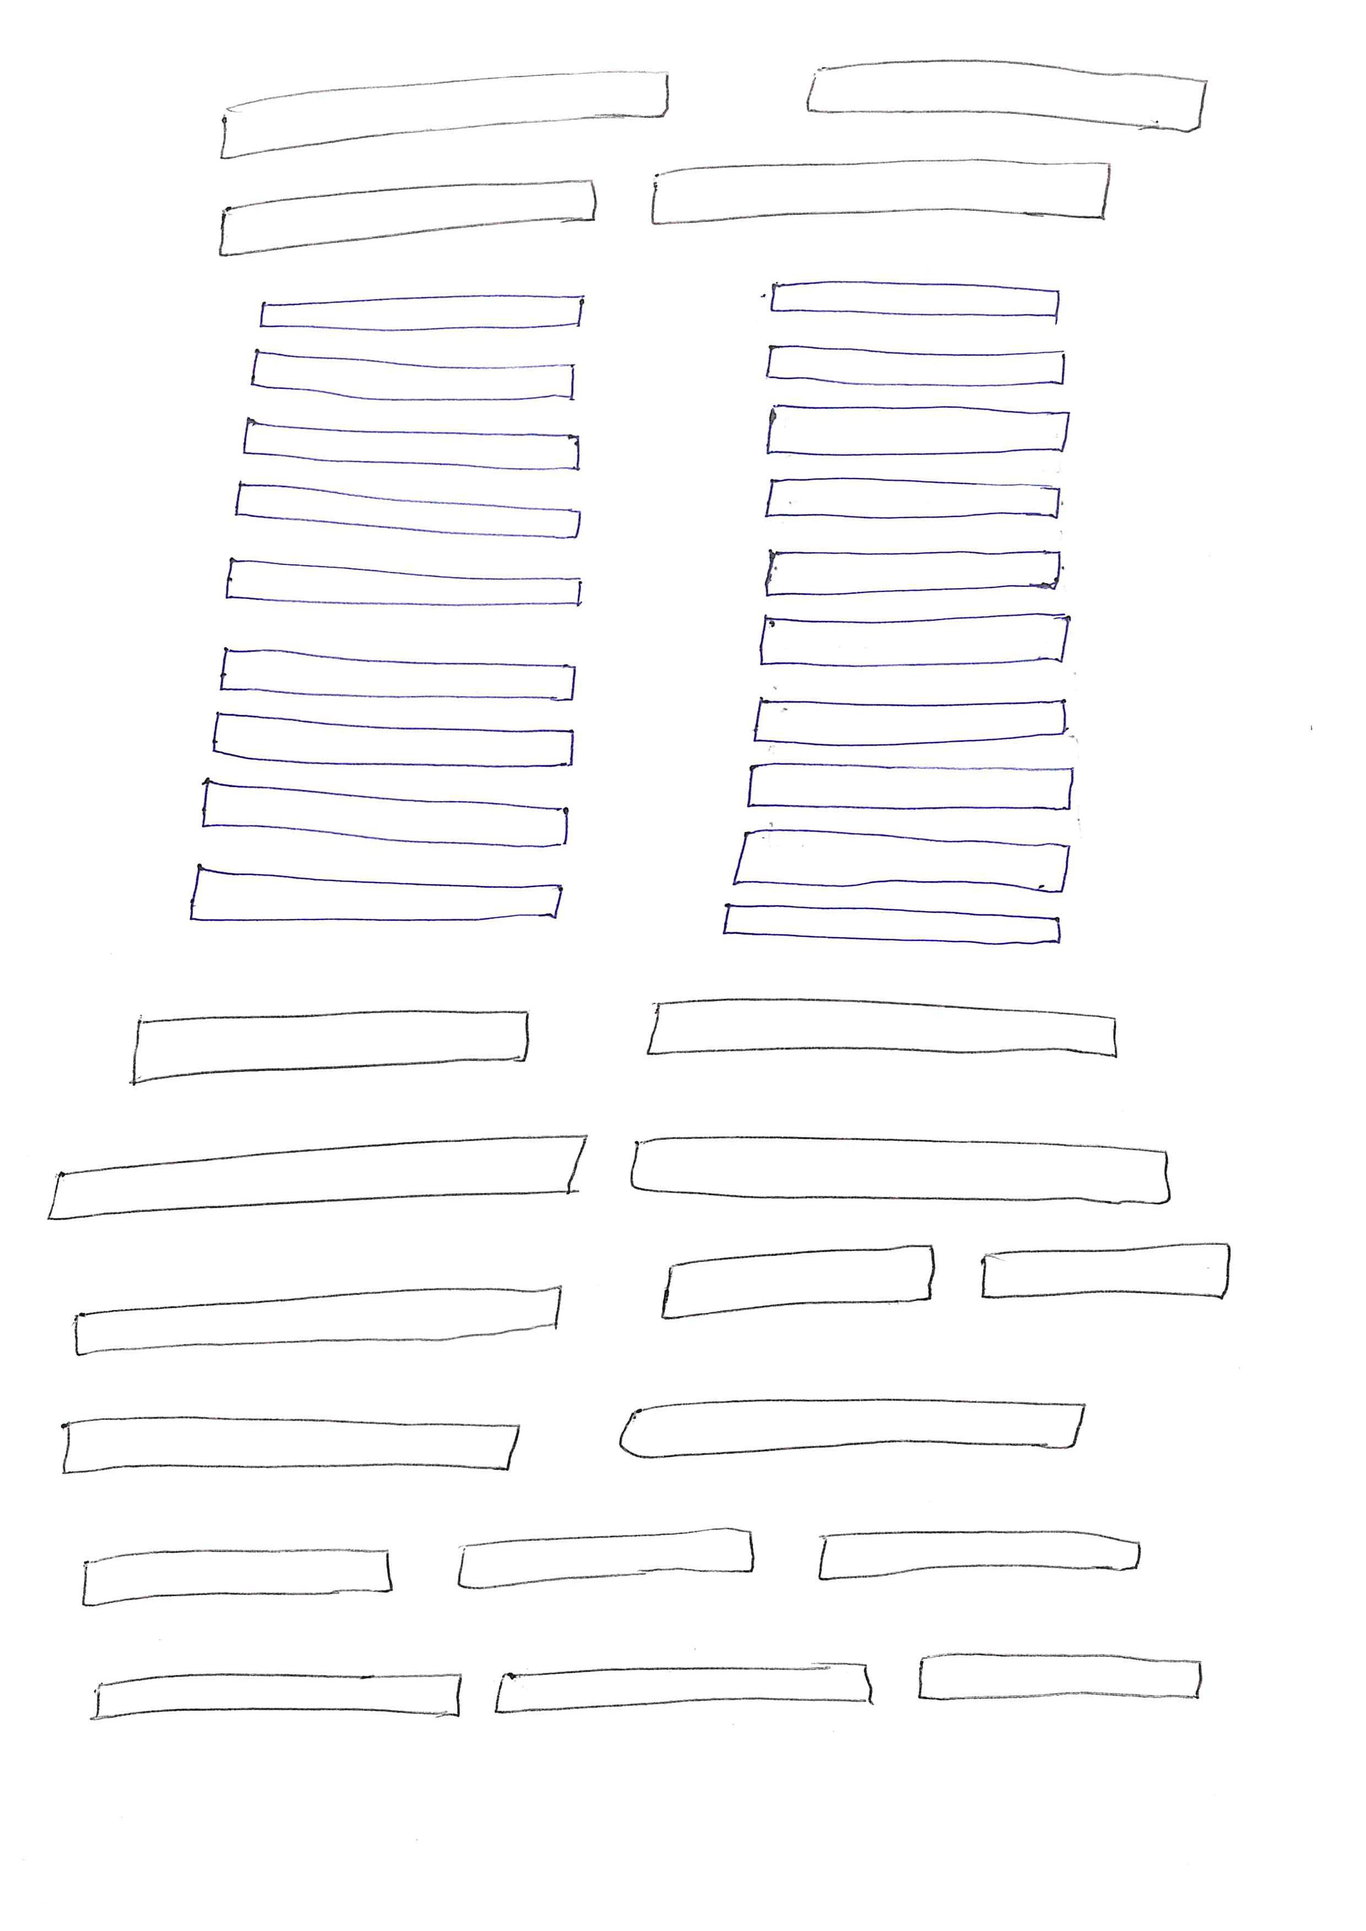Textbox: (46, 1133, 590, 1221), (219, 68, 673, 163), (630, 1136, 1172, 1207), (72, 1283, 562, 1357), (648, 158, 1112, 228), (130, 1008, 531, 1088), (616, 1394, 1088, 1461), (216, 177, 599, 257), (804, 58, 1209, 133), (645, 997, 1118, 1059), (61, 1414, 519, 1476), (201, 778, 569, 849), (234, 481, 584, 543), (188, 866, 563, 924), (732, 827, 1070, 890), (658, 1243, 936, 1320), (492, 1660, 874, 1715), (217, 645, 578, 701), (87, 1669, 464, 1723), (210, 713, 575, 767), (78, 1547, 395, 1609), (223, 557, 582, 611), (452, 1527, 755, 1589), (242, 417, 582, 472), (250, 347, 577, 404), (816, 1527, 1143, 1584), (758, 611, 1072, 668), (764, 402, 1070, 458), (745, 761, 1073, 812), (754, 695, 1067, 747), (980, 1242, 1233, 1303), (763, 549, 1063, 597), (917, 1652, 1203, 1702), (721, 903, 1061, 945), (259, 291, 585, 333), (764, 343, 1067, 387), (761, 476, 1063, 520), (767, 279, 1061, 319)
